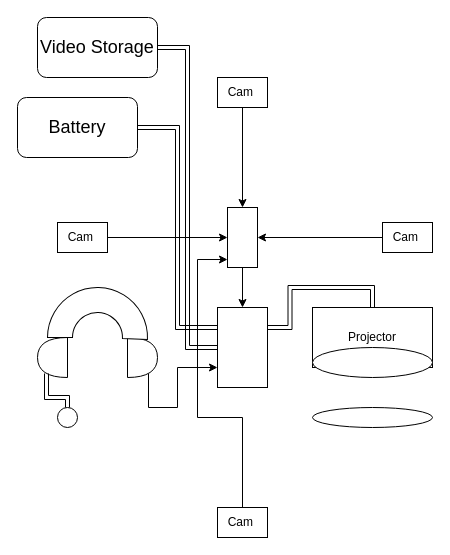
Image size: 450x555. Some labels were removed from this diagram. Here are the shapes that lost their labels. From the top down, the centre of each, then its label:
the point at 242,237: USB HUB
the point at 97,337: Headphones + Microphone
the point at 242,347: Pi
the point at 372,417: Convex Lens
